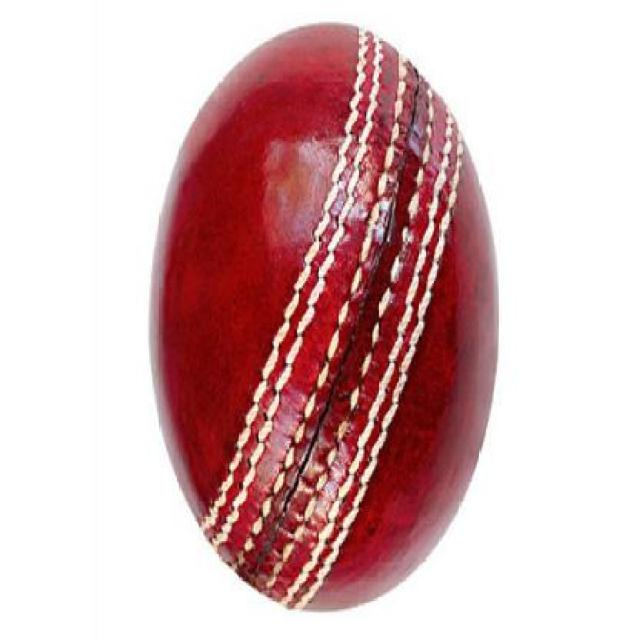ball: (99, 6, 571, 640)
